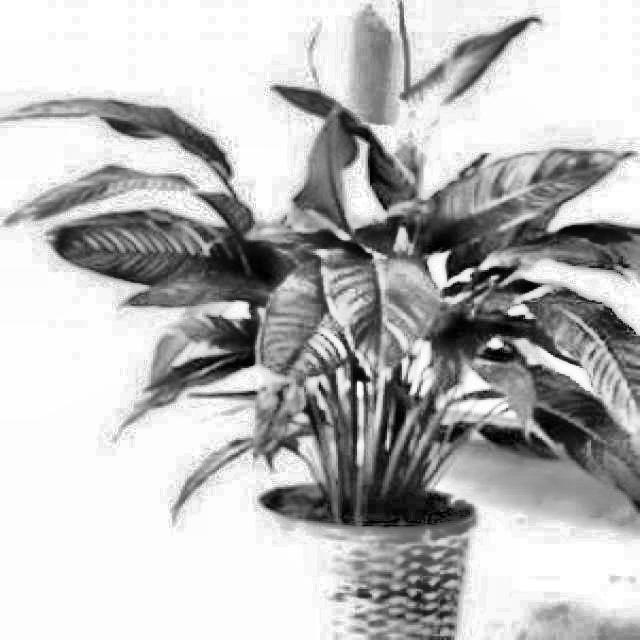plants: (13, 75, 638, 578)
